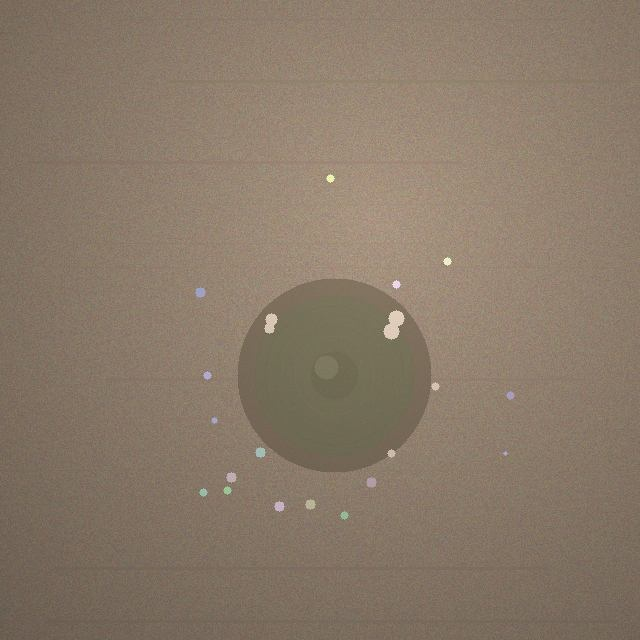overburn: (237, 278, 431, 472)
